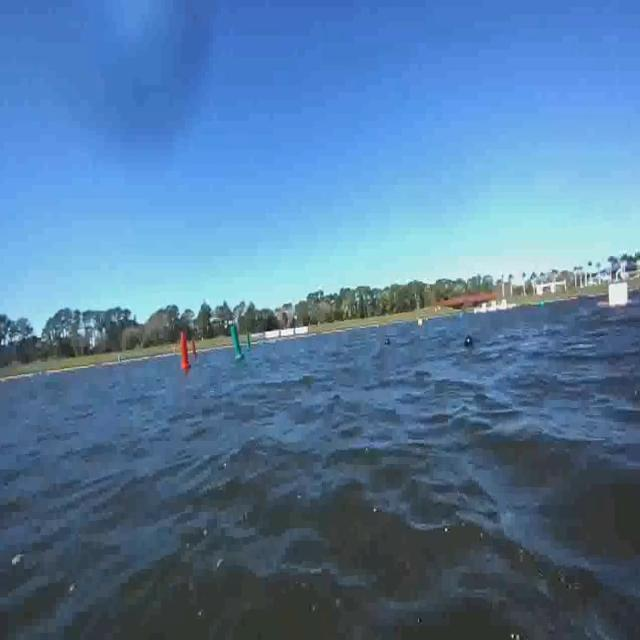black-buoy: (466, 334, 477, 351), (385, 338, 392, 344)
green-column-buoy: (229, 326, 244, 361), (244, 333, 250, 352)
red-column-buoy: (178, 331, 191, 370), (190, 340, 197, 360)
yellow-buoy: (417, 317, 424, 329)
